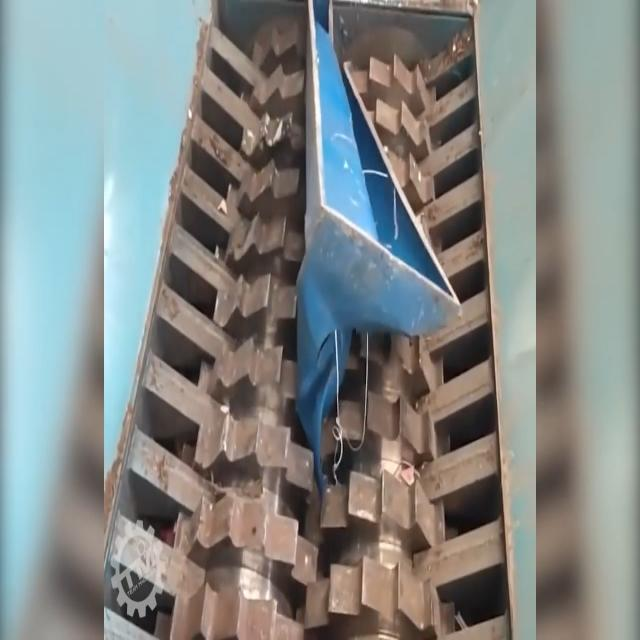Broyeur: (106, 0, 526, 640)
